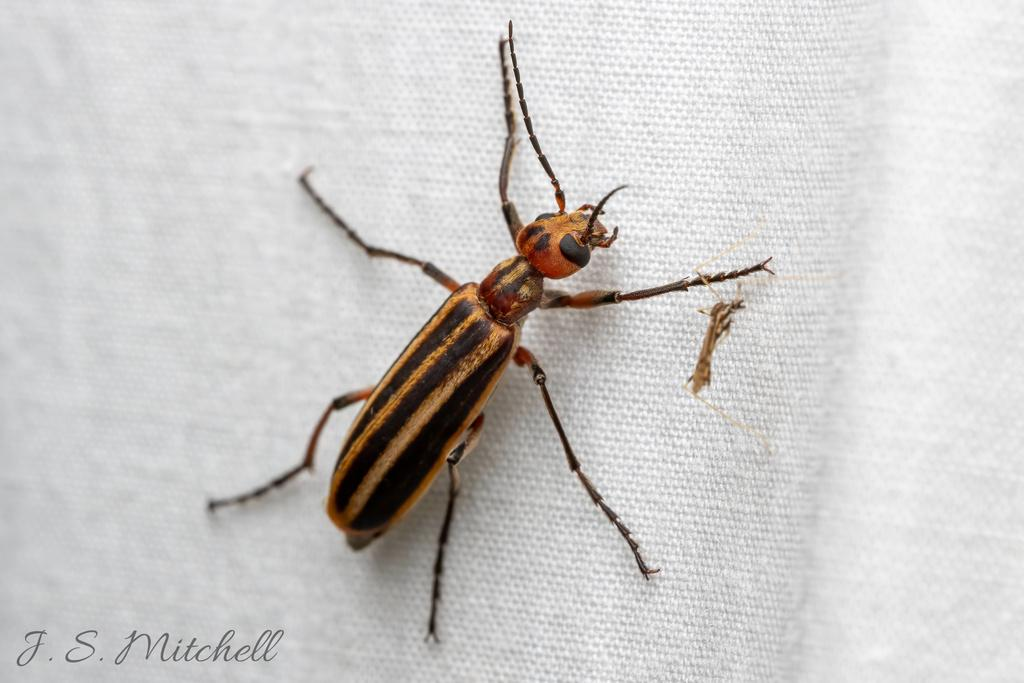blister_beetle: (155, 0, 869, 683)
